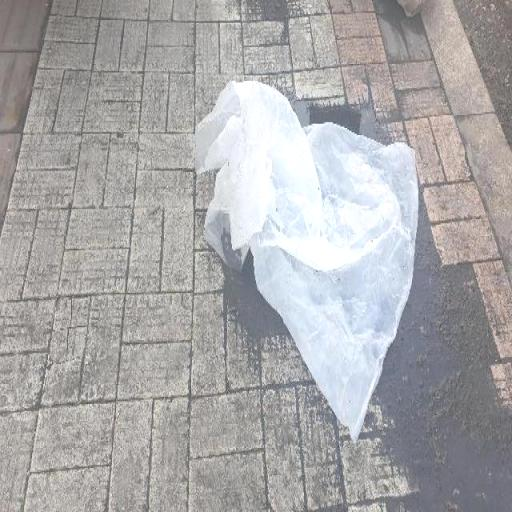polythene: (196, 82, 418, 440)
